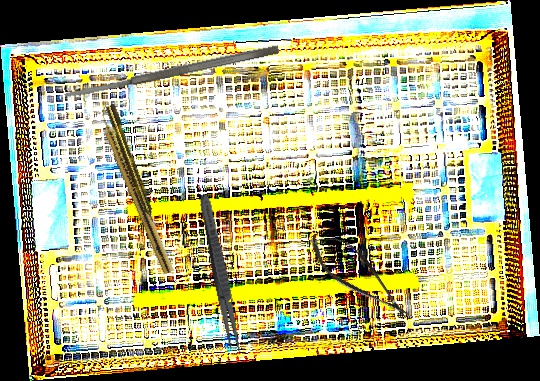Dressing Forceps: (195, 193, 246, 355)
Handpiece: (93, 104, 178, 275), (104, 102, 160, 230)
Micro Scissor: (300, 221, 420, 331)
Spatula Surgical: (63, 43, 280, 101)
